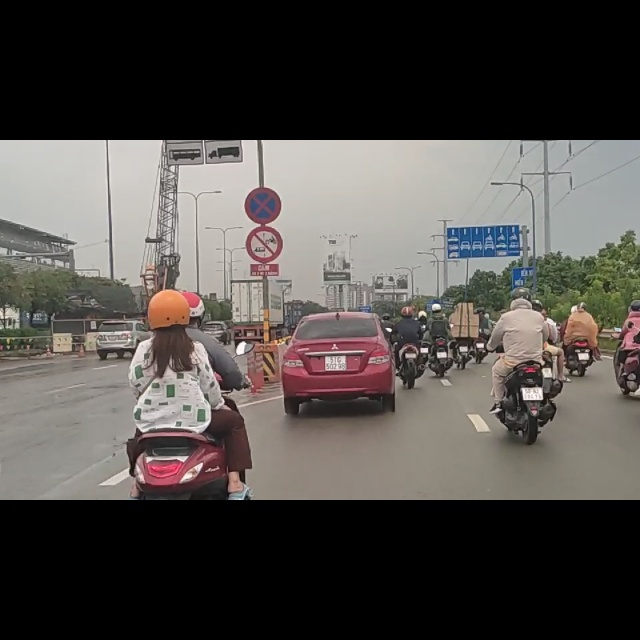bien_cam: (245, 84, 281, 148)
